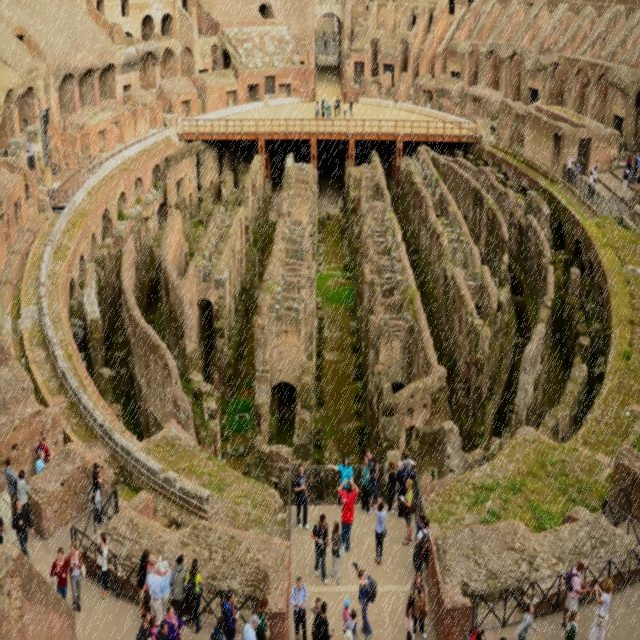pessoa: (3, 130, 47, 210), (559, 558, 592, 631), (351, 560, 379, 640), (336, 478, 360, 555), (183, 556, 206, 635), (588, 576, 614, 639), (87, 532, 109, 602), (66, 540, 86, 616), (11, 498, 35, 560), (310, 512, 330, 586), (291, 462, 311, 532), (289, 574, 309, 639), (395, 459, 417, 518), (360, 447, 380, 510), (144, 561, 164, 624), (411, 570, 428, 640), (414, 517, 432, 583), (329, 518, 346, 586), (49, 546, 69, 602), (328, 454, 356, 492), (399, 477, 414, 547), (5, 455, 18, 530), (136, 548, 151, 613), (222, 587, 240, 639), (313, 600, 335, 640), (374, 499, 387, 566), (171, 552, 188, 603), (518, 602, 540, 640), (159, 558, 172, 622), (254, 594, 272, 640), (164, 603, 186, 639), (310, 594, 327, 640), (34, 432, 56, 466), (134, 608, 154, 640), (360, 454, 370, 518), (387, 456, 398, 514), (466, 626, 511, 640), (15, 468, 30, 508), (242, 612, 262, 640), (405, 593, 416, 639), (209, 612, 227, 640), (346, 608, 360, 640), (92, 462, 104, 498), (564, 609, 578, 639), (146, 554, 164, 577), (342, 596, 352, 636), (398, 450, 416, 472), (414, 511, 426, 543), (148, 612, 160, 640), (0, 515, 10, 546), (155, 620, 169, 640), (586, 168, 594, 202), (590, 176, 598, 206), (36, 450, 46, 474), (622, 166, 630, 193), (592, 158, 600, 184), (568, 154, 574, 182), (634, 149, 640, 177), (634, 154, 640, 182), (572, 161, 578, 186), (348, 96, 354, 120), (630, 156, 635, 184), (336, 94, 342, 117), (626, 154, 632, 177), (576, 160, 581, 187), (322, 28, 328, 50), (344, 627, 354, 639), (333, 98, 338, 120), (324, 98, 329, 120), (613, 145, 618, 167), (610, 145, 614, 171), (314, 100, 319, 120), (636, 161, 640, 186), (570, 160, 575, 178), (320, 94, 326, 108), (343, 100, 347, 119), (328, 104, 332, 123), (316, 100, 320, 118), (294, 633, 304, 639), (36, 436, 42, 446)
